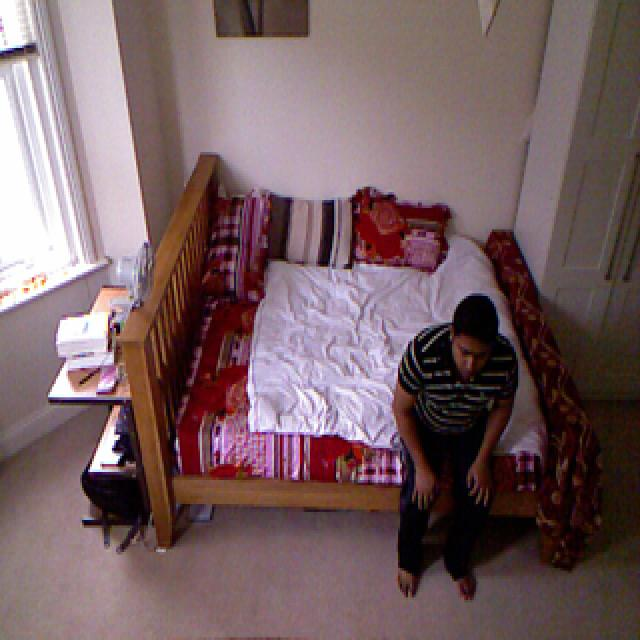sitting: (388, 300, 524, 608)
